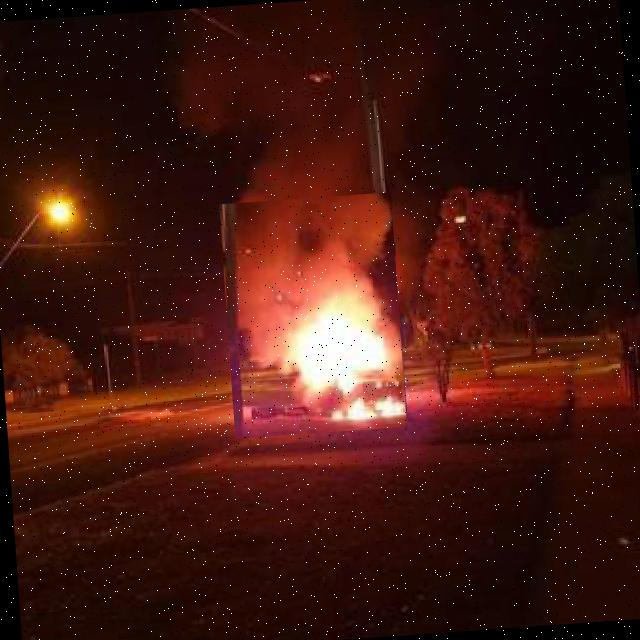fire: (218, 192, 406, 438)
